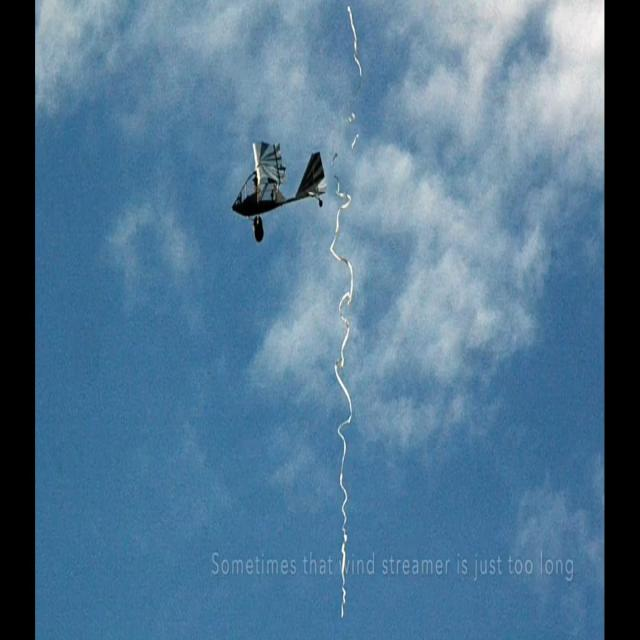iha: (263, 175, 297, 212)
